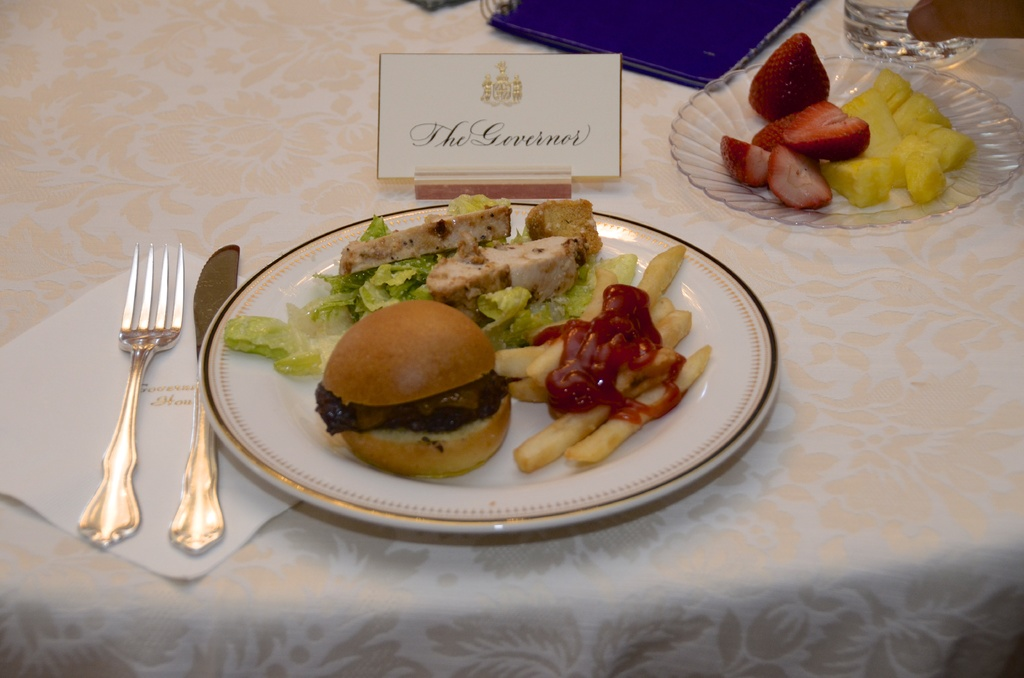hamburger: (312, 300, 513, 478)
